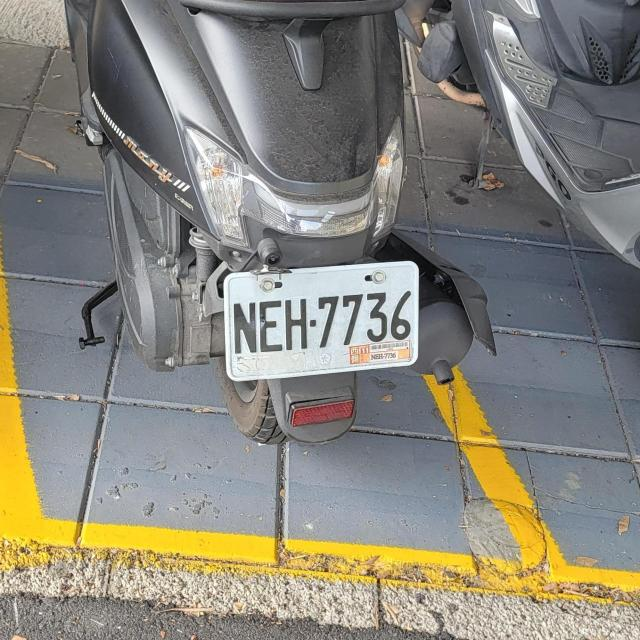W: (223, 262, 420, 378)
